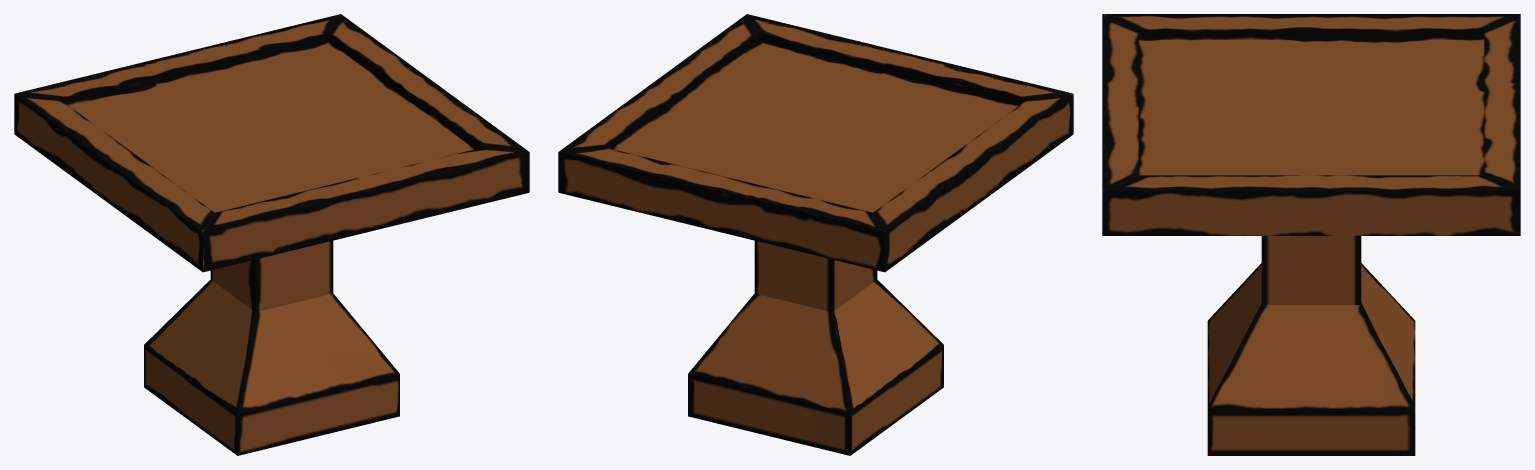
File: Table.fbx
The picture shows the model from 3 angles, left to right: view 1: azimuth 30°, elevation 25°; view 2: azimuth 150°, elevation 25°; view 3: azimuth 270°, elevation 25°; orthographic projection. The views are drawn at different scales.
Visible parts, largest first — view 1: Table; view 2: Table; view 3: Table.
Part boxes in pixels (x1=…): Table: x1=14, y1=14, x2=529, y2=455; Table: x1=558, y1=14, x2=1073, y2=455; Table: x1=1102, y1=14, x2=1520, y2=455.
Size of what is drawn, in the model's own units: 2.58 by 2.1 by 2.58.
